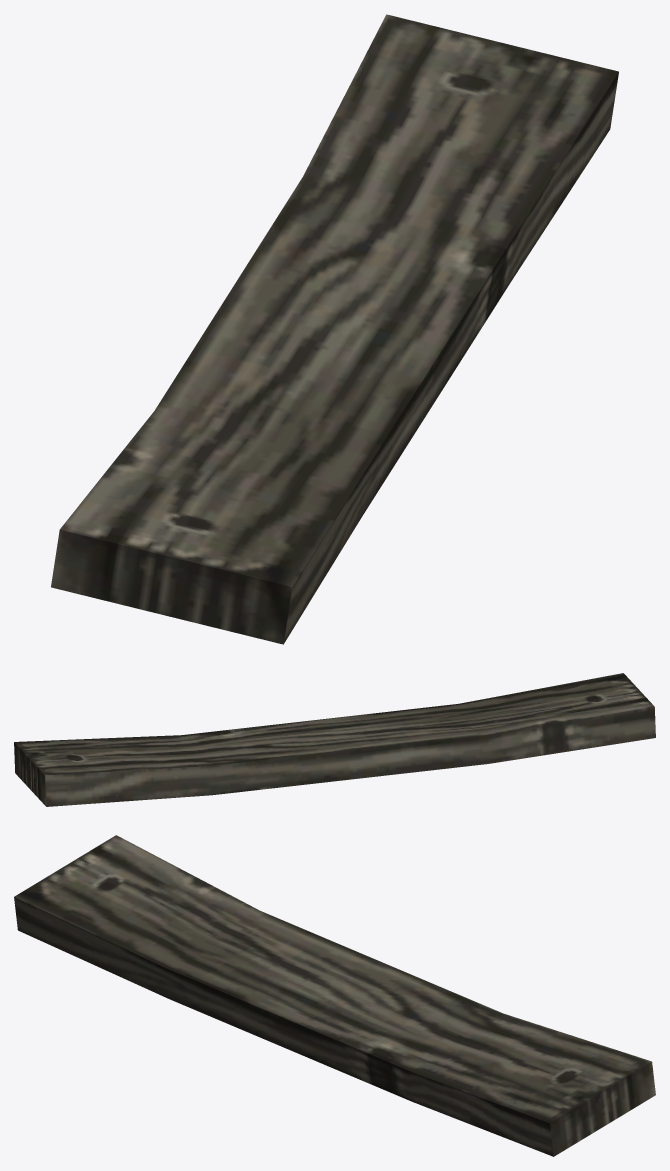
The model's file is ANIMATEDINSTANCES_BOARD_FALL5__BA.fbx.
3 renders of one model, top to bottom at view 1: azimuth 30°, elevation 25°; view 2: azimuth 150°, elevation 25°; view 3: azimuth 270°, elevation 25°, orthographic. The views are drawn at different scales.
Parts seen in each view (by area): view 1: ANIMATEDINSTANCES_BOARD_FALL5__BA; view 2: ANIMATEDINSTANCES_BOARD_FALL5__BA; view 3: ANIMATEDINSTANCES_BOARD_FALL5__BA.
Part boxes in pixels (x1,y1,x2,y2): ANIMATEDINSTANCES_BOARD_FALL5__BA: [51, 14, 618, 644]; ANIMATEDINSTANCES_BOARD_FALL5__BA: [14, 673, 655, 806]; ANIMATEDINSTANCES_BOARD_FALL5__BA: [14, 835, 655, 1156].
Size of the model in its own units: 15470 by 1666 by 15470.
Materials: 1 (1 with a texture image).
